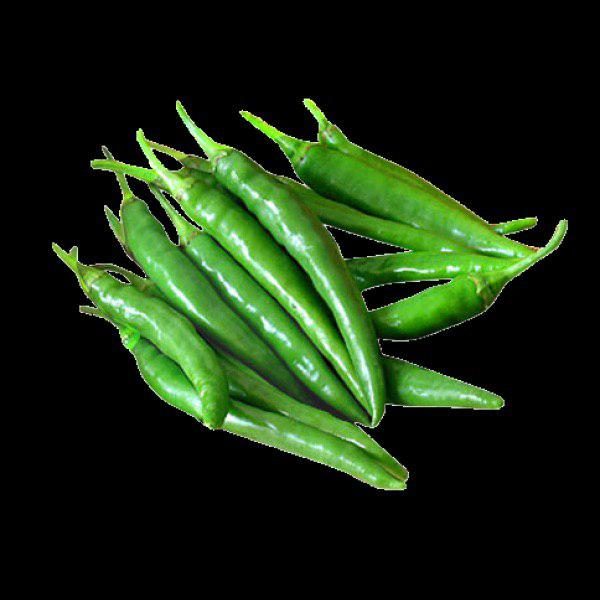lada hijau: (213, 147, 403, 424), (163, 172, 362, 394), (131, 341, 401, 497), (293, 114, 527, 267), (119, 195, 301, 387), (178, 214, 351, 415), (83, 275, 234, 431), (367, 252, 504, 353)
